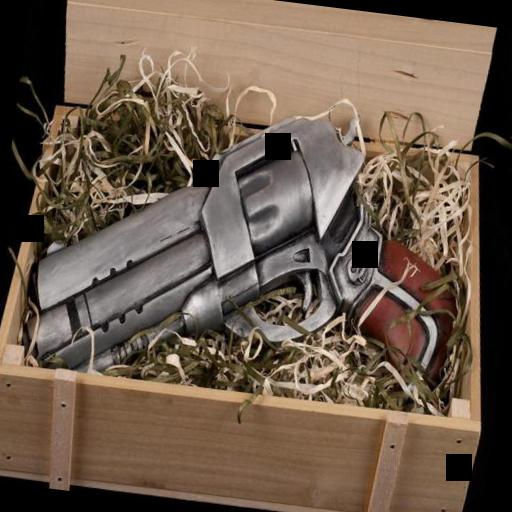Handgun: (20, 83, 484, 415)
